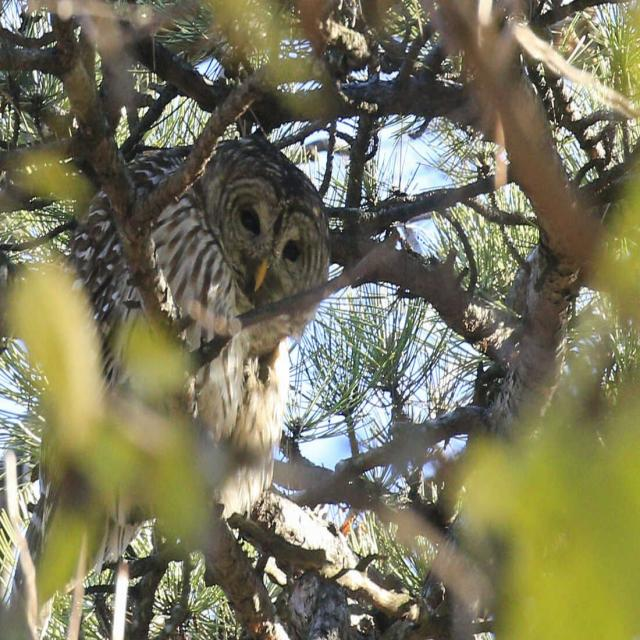Owl: (66, 135, 333, 542)
